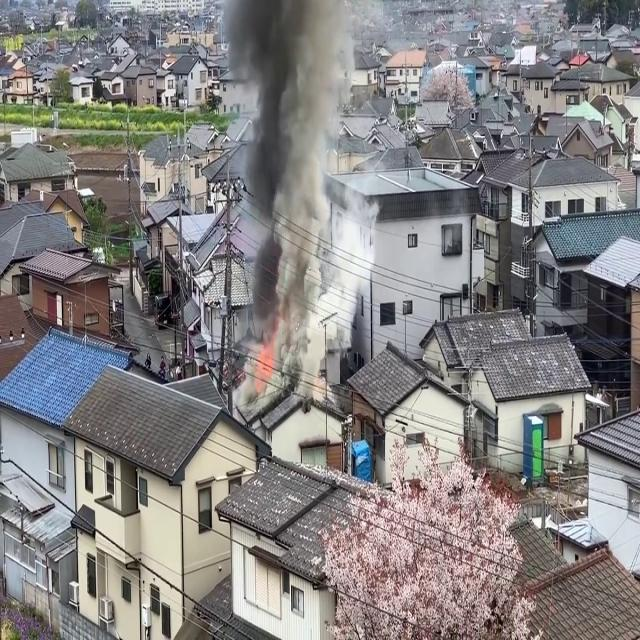Smoke: (231, 0, 371, 373)
